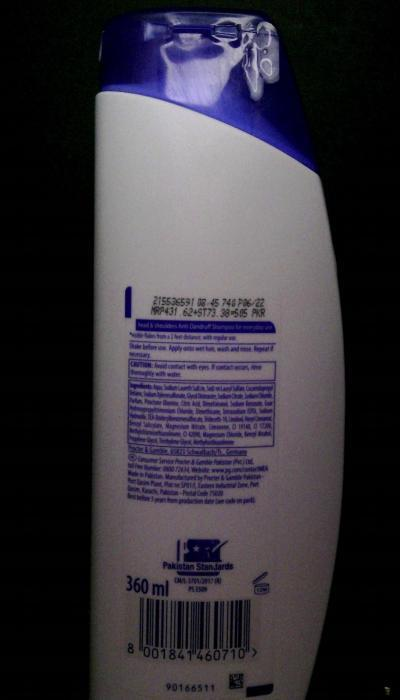pob_unacc: (235, 9, 282, 104)
